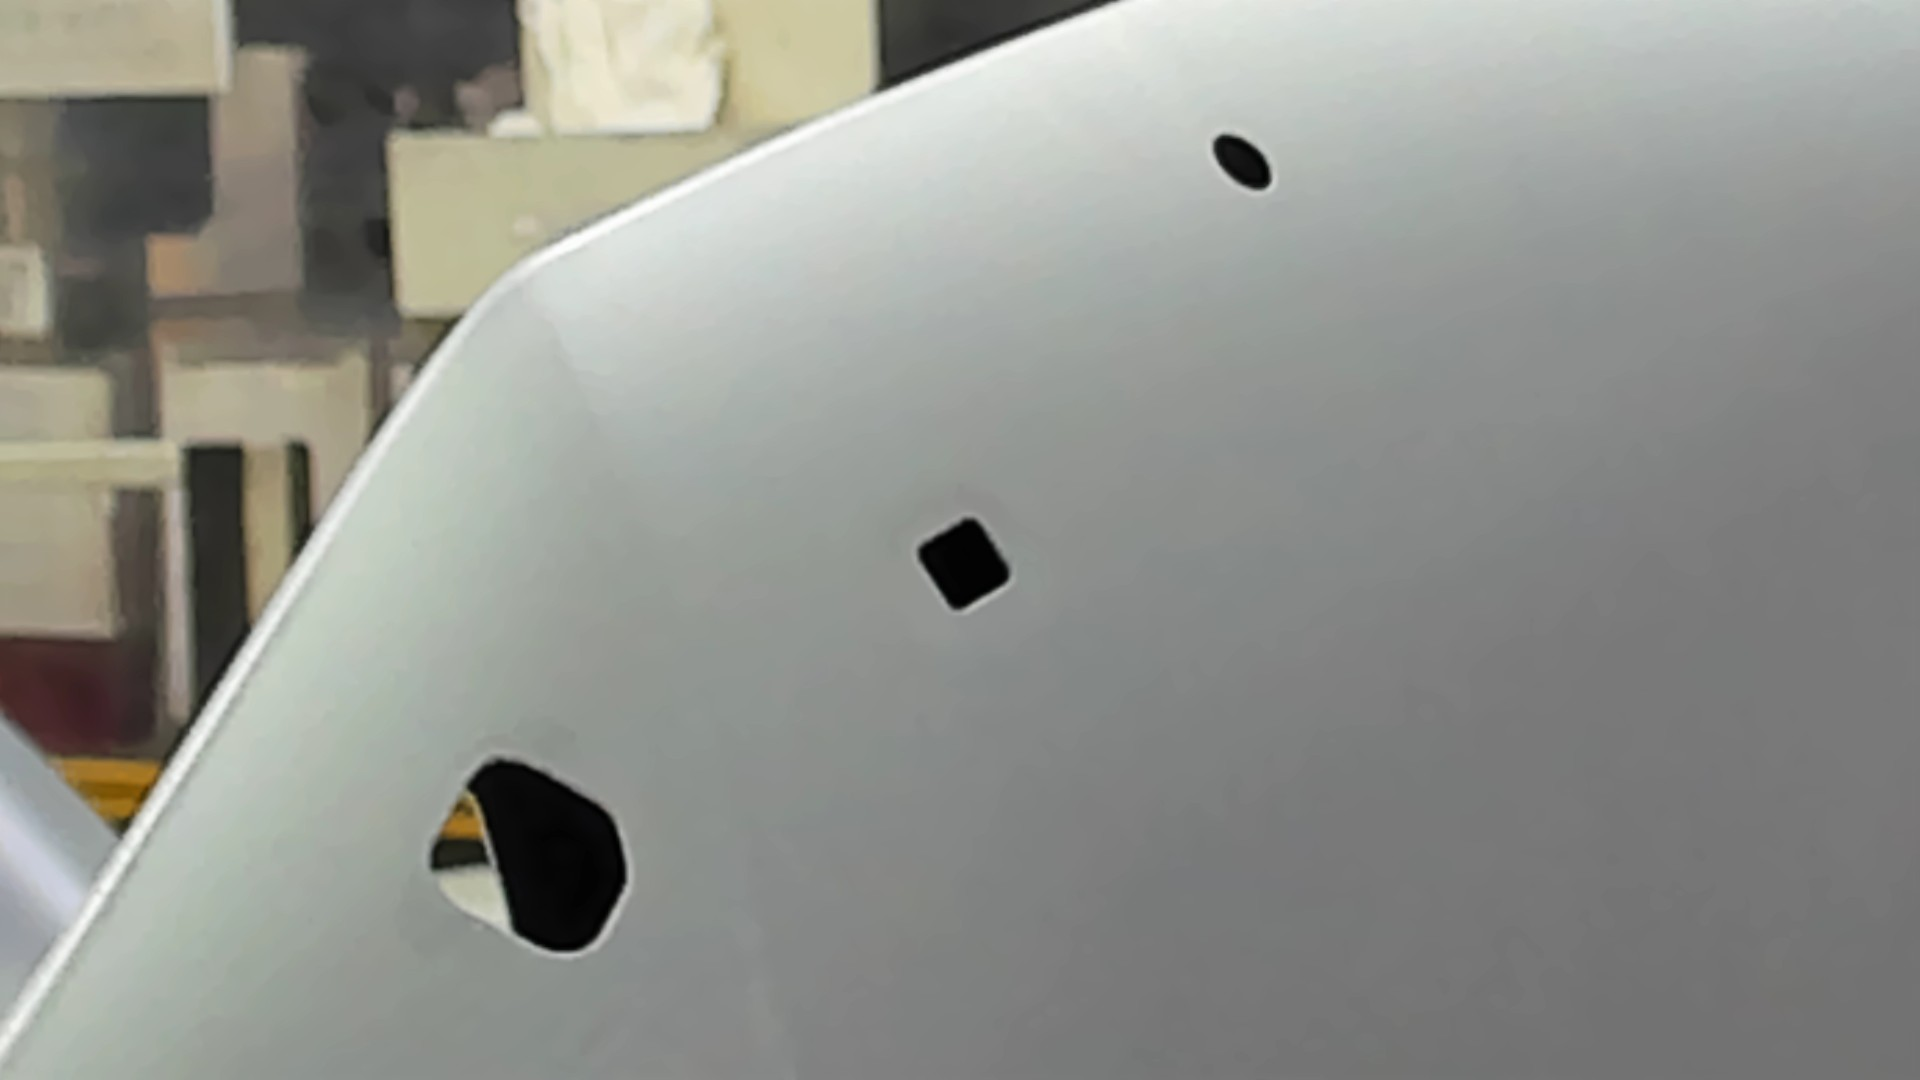chico: (1208, 131, 1274, 199)
grande: (419, 748, 637, 967)
mediano: (907, 508, 1021, 622)
